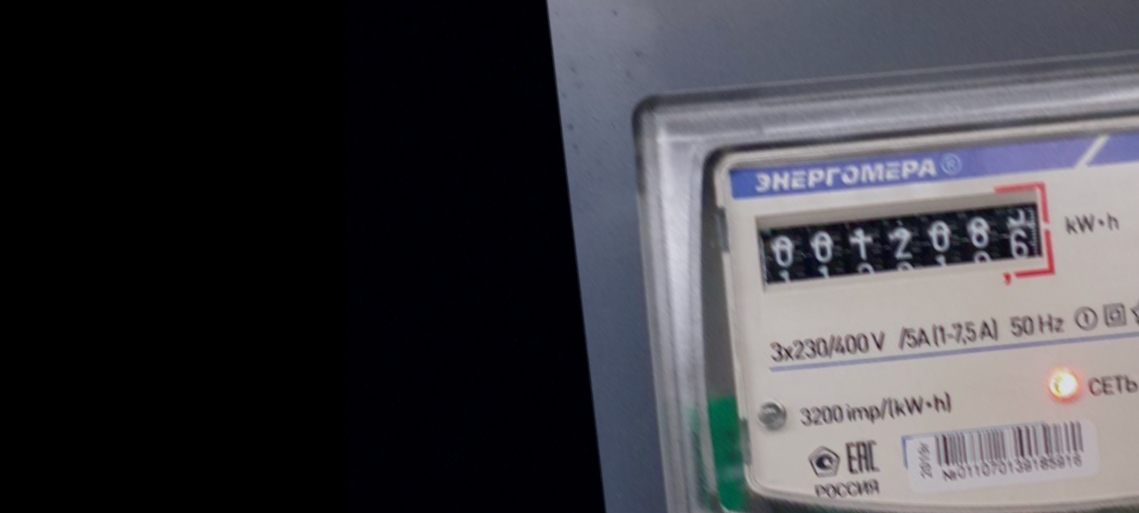0: (926, 215, 955, 253), (810, 225, 837, 264), (772, 229, 796, 268)
1: (851, 223, 872, 261)
2: (888, 222, 918, 260)
6: (1006, 222, 1033, 260)
8: (965, 212, 992, 250)
screen: (744, 169, 1067, 322)
